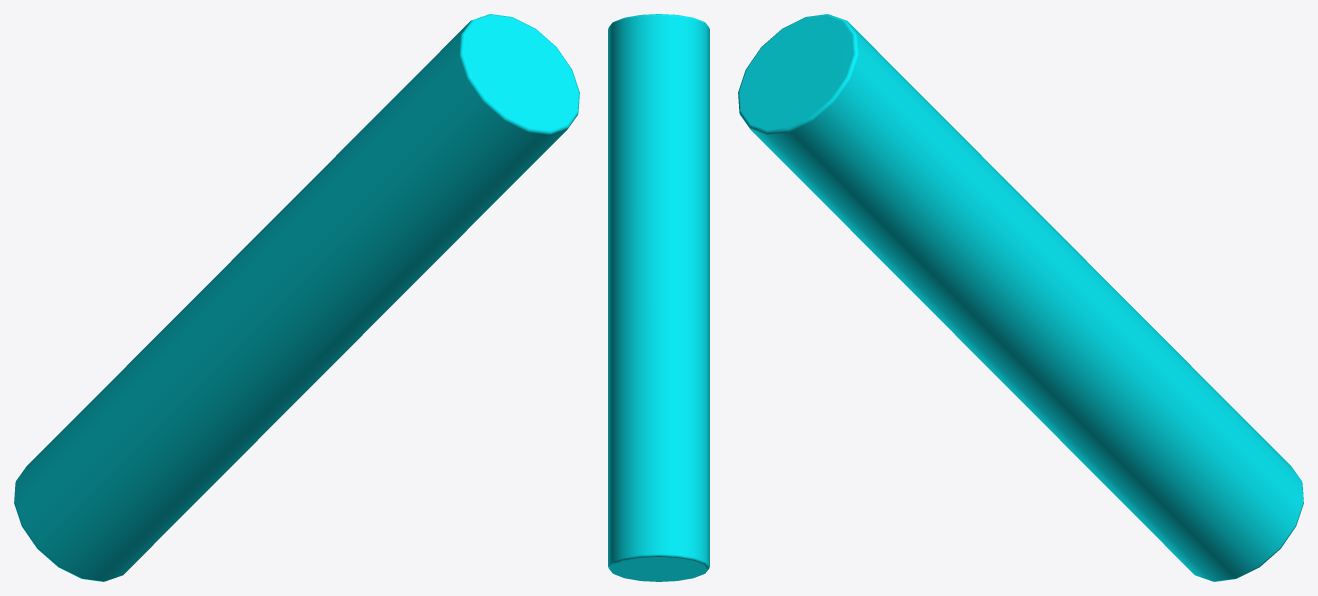
Rendered from susp_rear_pushrod_damper_rl.glb.
The picture shows the model from 3 angles, left to right: view 1: azimuth 30°, elevation 25°; view 2: azimuth 150°, elevation 25°; view 3: azimuth 270°, elevation 25°; orthographic projection. The views are drawn at different scales.
Parts seen in each view (by area): view 1: SUSP_Rear_Pushrod_Damper_RL; view 2: SUSP_Rear_Pushrod_Damper_RL; view 3: SUSP_Rear_Pushrod_Damper_RL.
Boxes of the visible parts, x1,y1,x2,y2 form: SUSP_Rear_Pushrod_Damper_RL: (14, 14, 579, 581); SUSP_Rear_Pushrod_Damper_RL: (608, 14, 709, 581); SUSP_Rear_Pushrod_Damper_RL: (738, 14, 1303, 581).
Size of the model in its own units: 0.2056 by 0.3689 by 0.2947.
